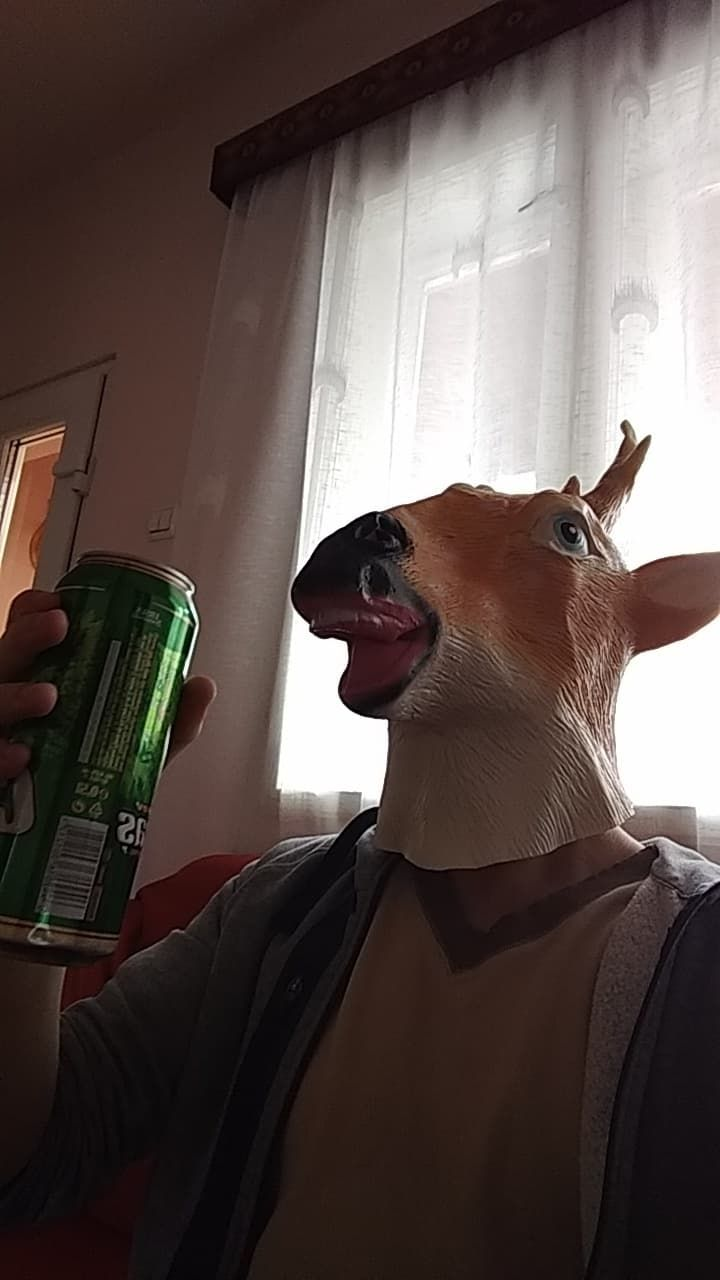Can: (1, 548, 207, 966)
